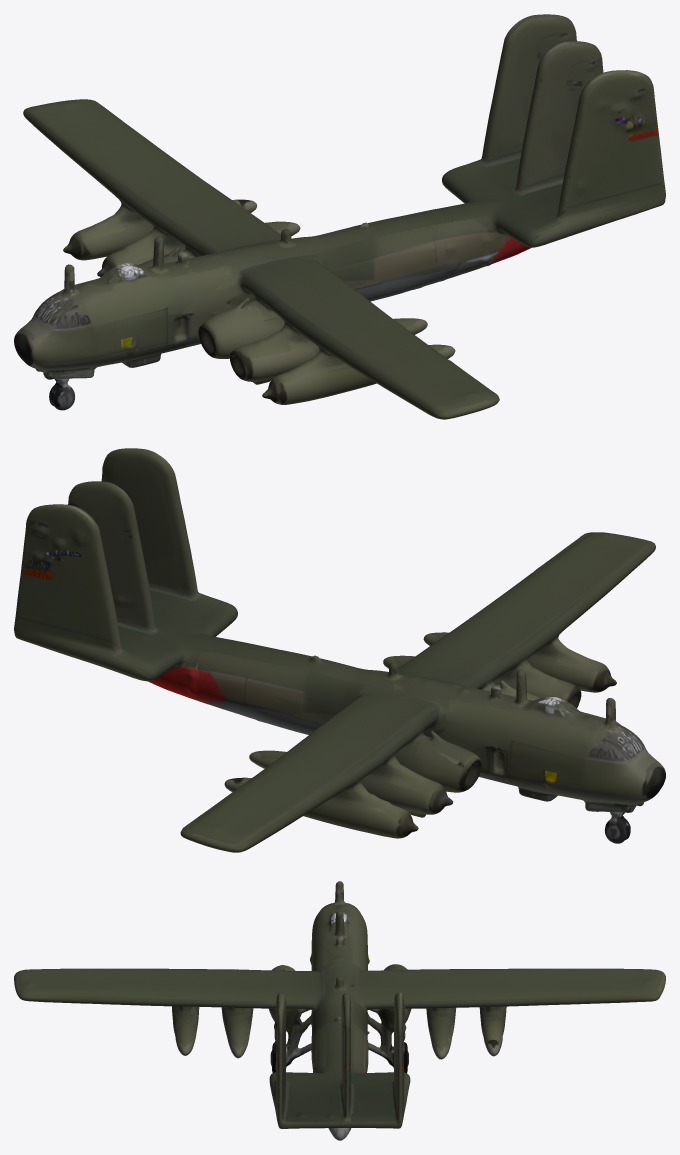
Rendered from battleplane3.glb.
The picture shows the model from 3 angles, top to bottom: view 1: azimuth 30°, elevation 25°; view 2: azimuth 150°, elevation 25°; view 3: azimuth 270°, elevation 25°; orthographic projection. The views are drawn at different scales.
Parts seen in each view (by area): view 1: texture_v100.001; view 2: texture_v100.001; view 3: texture_v100.001.
Boxes of the visible parts, <box> form: texture_v100.001: <box>14,14,665,419</box>; texture_v100.001: <box>14,448,665,852</box>; texture_v100.001: <box>14,881,665,1140</box>.
Size of the model in its own units: 0.9788 by 0.3736 by 1.17.
Materials: 1 (1 with a texture image).
